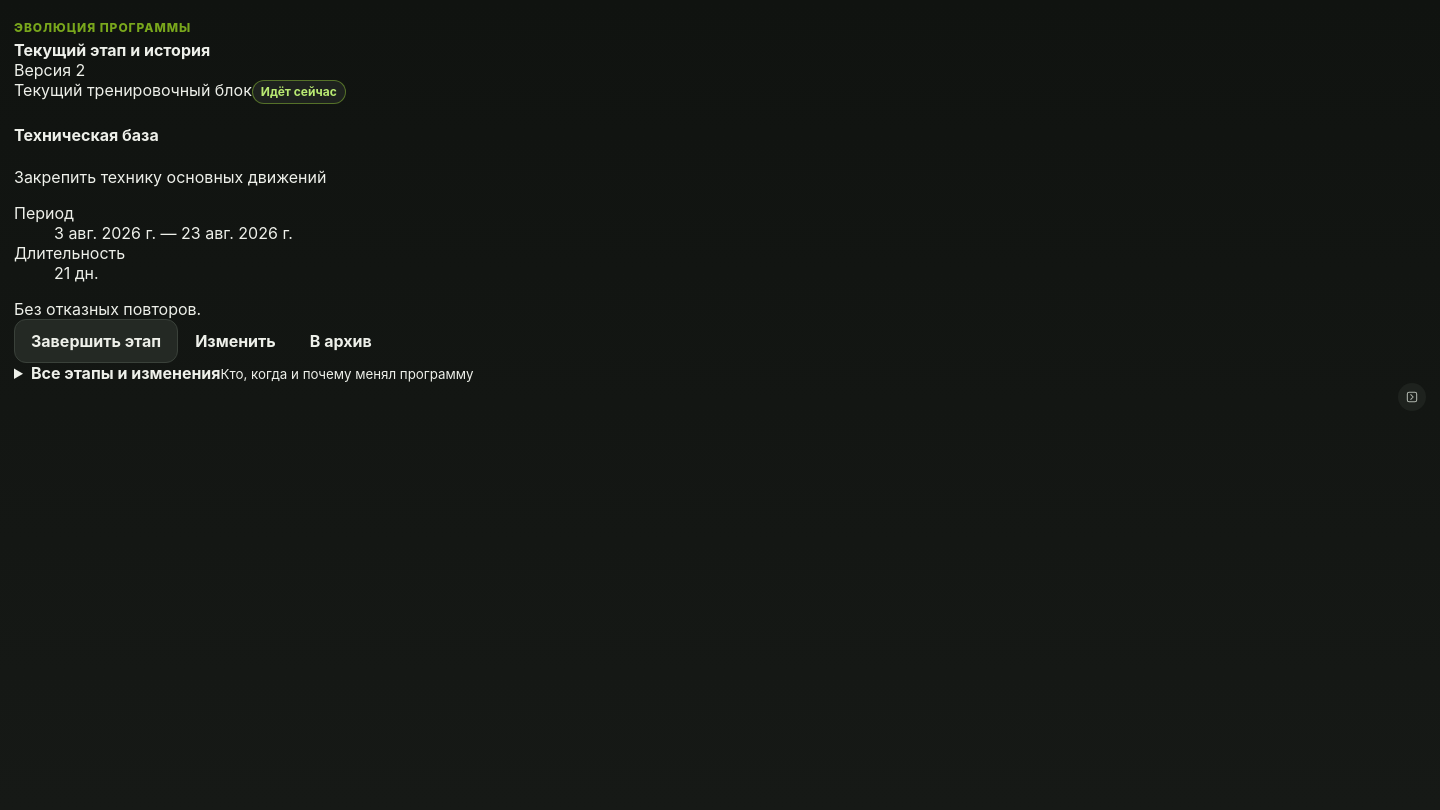
Test: AssignedProgramDetails › shows the current block first and exposes trainer, reason, readable diff and revision workout
This screenshot has width=1440, height=810.
Expected: the text "Текущий тренировочный блок" is shown, [14,81,252,101]
Expected: the heading "Техническая база" is shown, [14,126,159,146]
Click the heading "Все этапы и изменения": (126, 373) [14,363,1426,411]
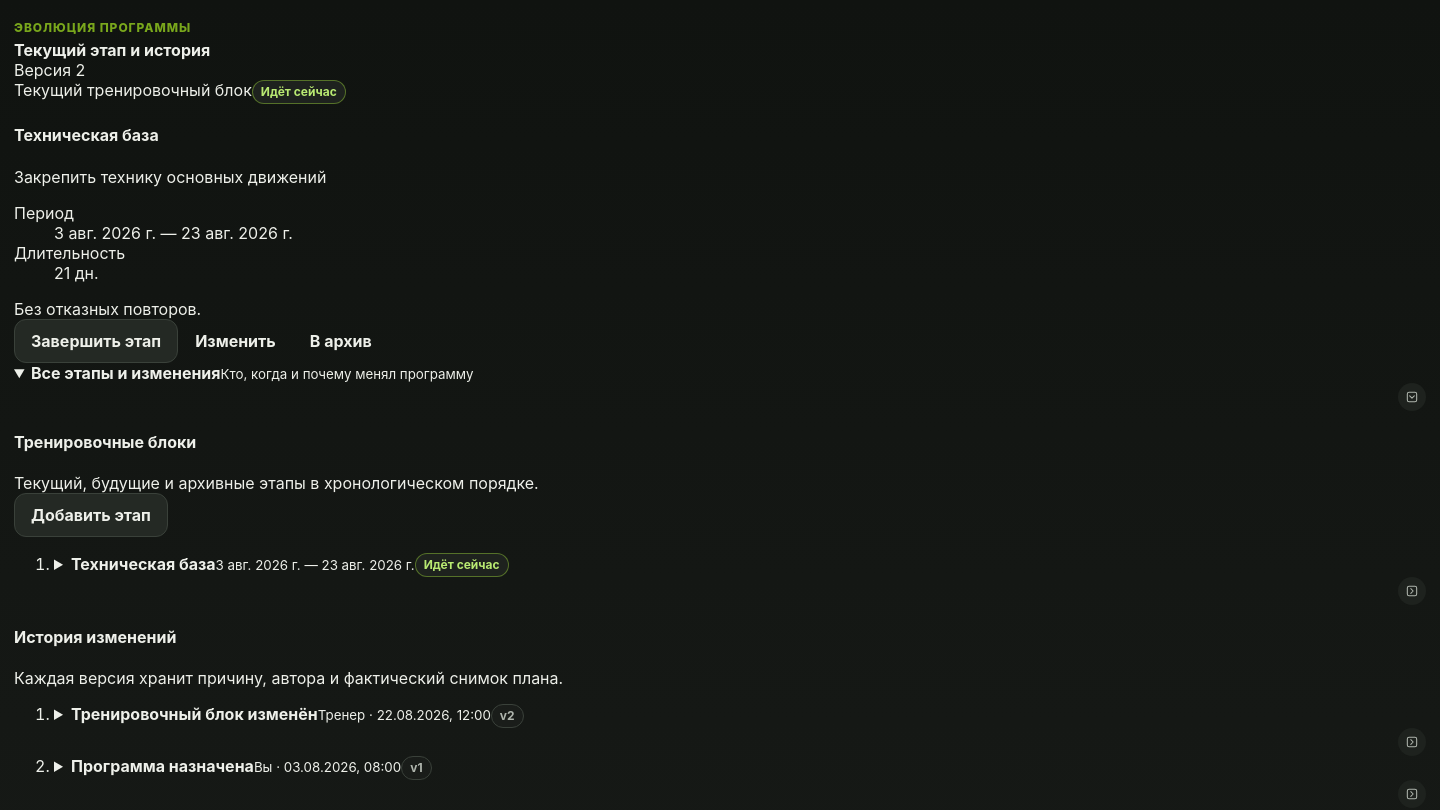
Click the heading "Тренировочный блок изменён": (194, 714) [54,704,1426,756]
(page scrolled)
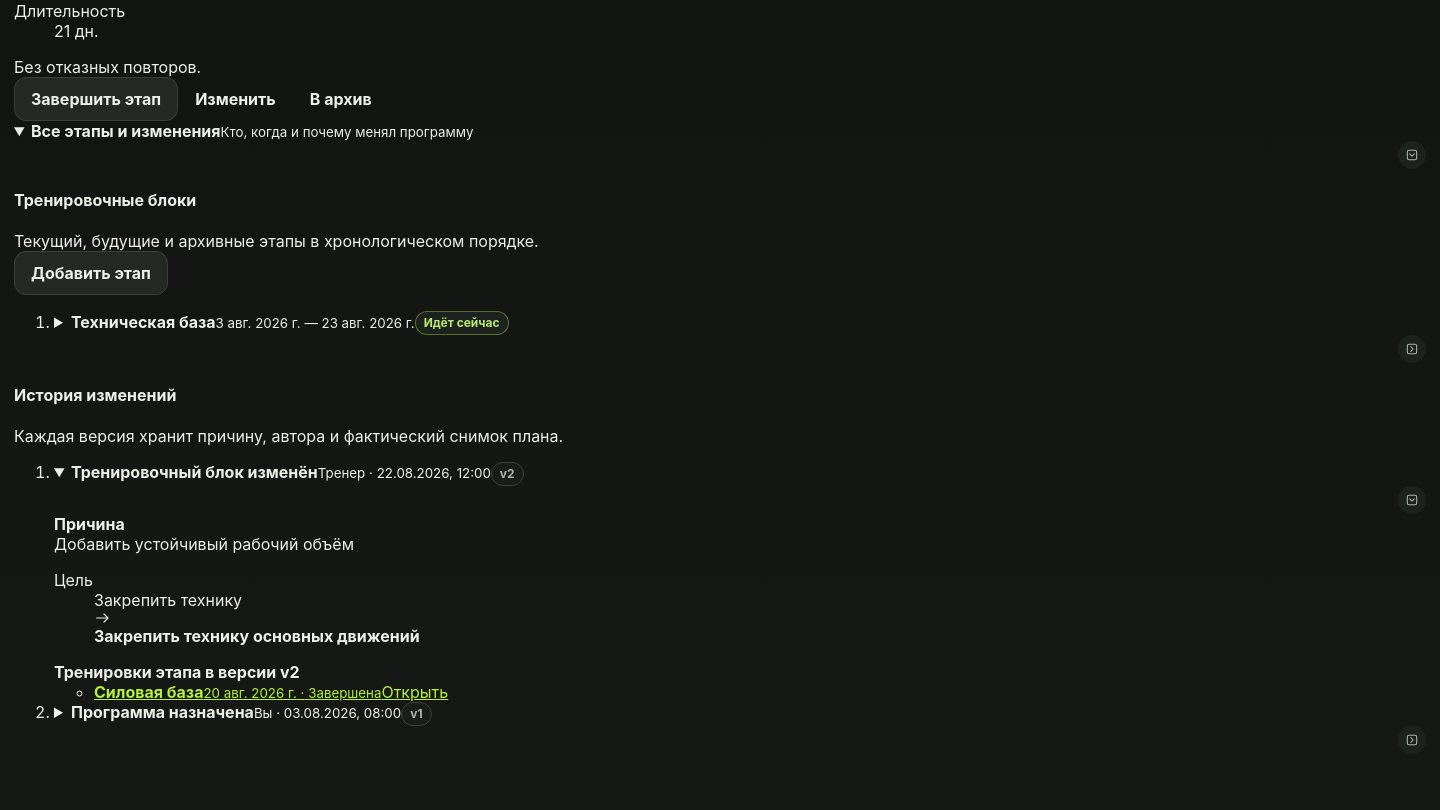
Now the text "Тренер · 22.08.2026, 12:00" is shown, box [318,465,491,481]
Now the text "Добавить устойчивый рабочий объём" is shown, box [54,534,354,554]
Now the text "Закрепить технику" is shown, box [94,590,242,610]
